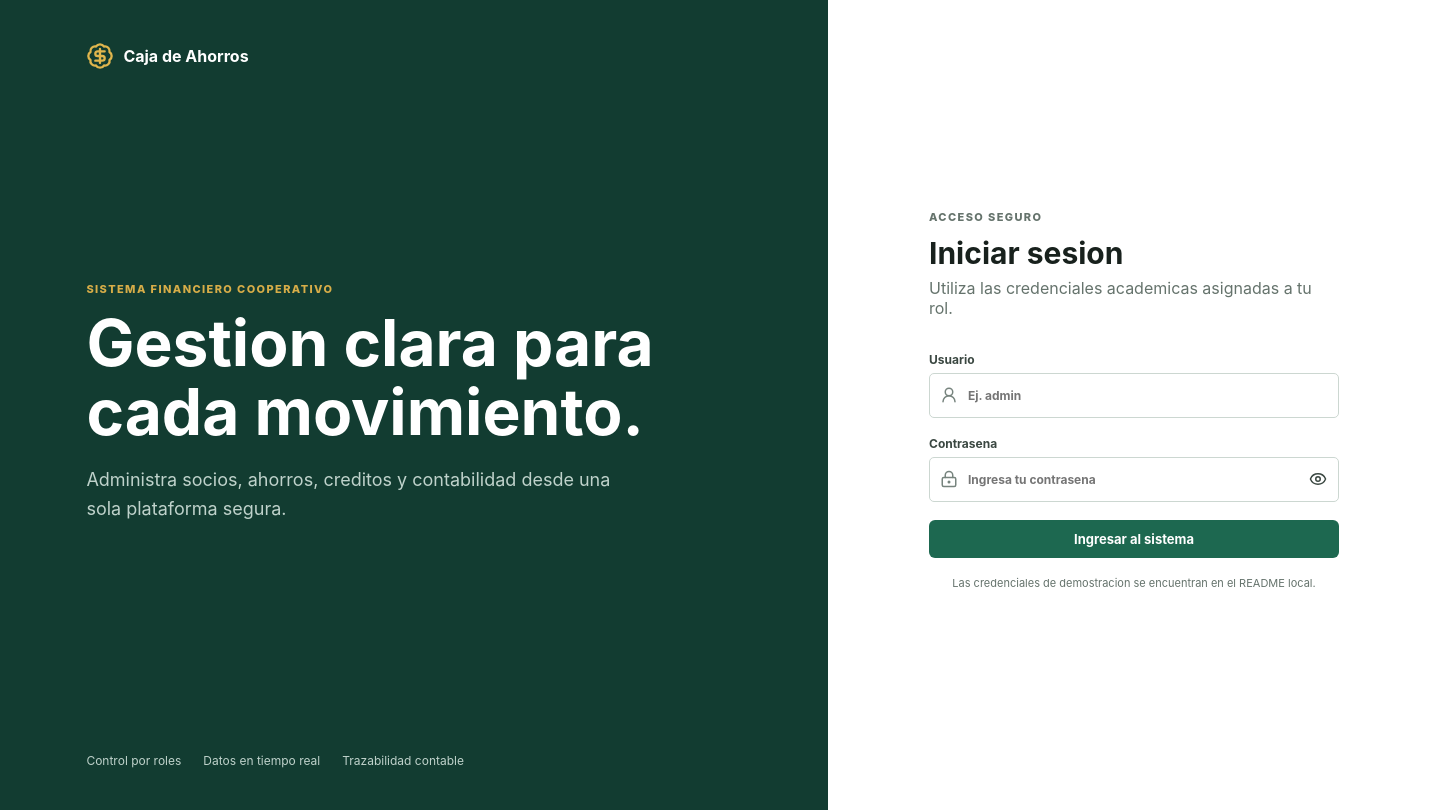
Test: PaginaLogin › muestra validaciones antes de enviar datos incompletos
The image size is (1440, 810).
Click the button "Ingresar al sistema" at (1134, 538), box left=929, top=520, right=1339, bottom=558
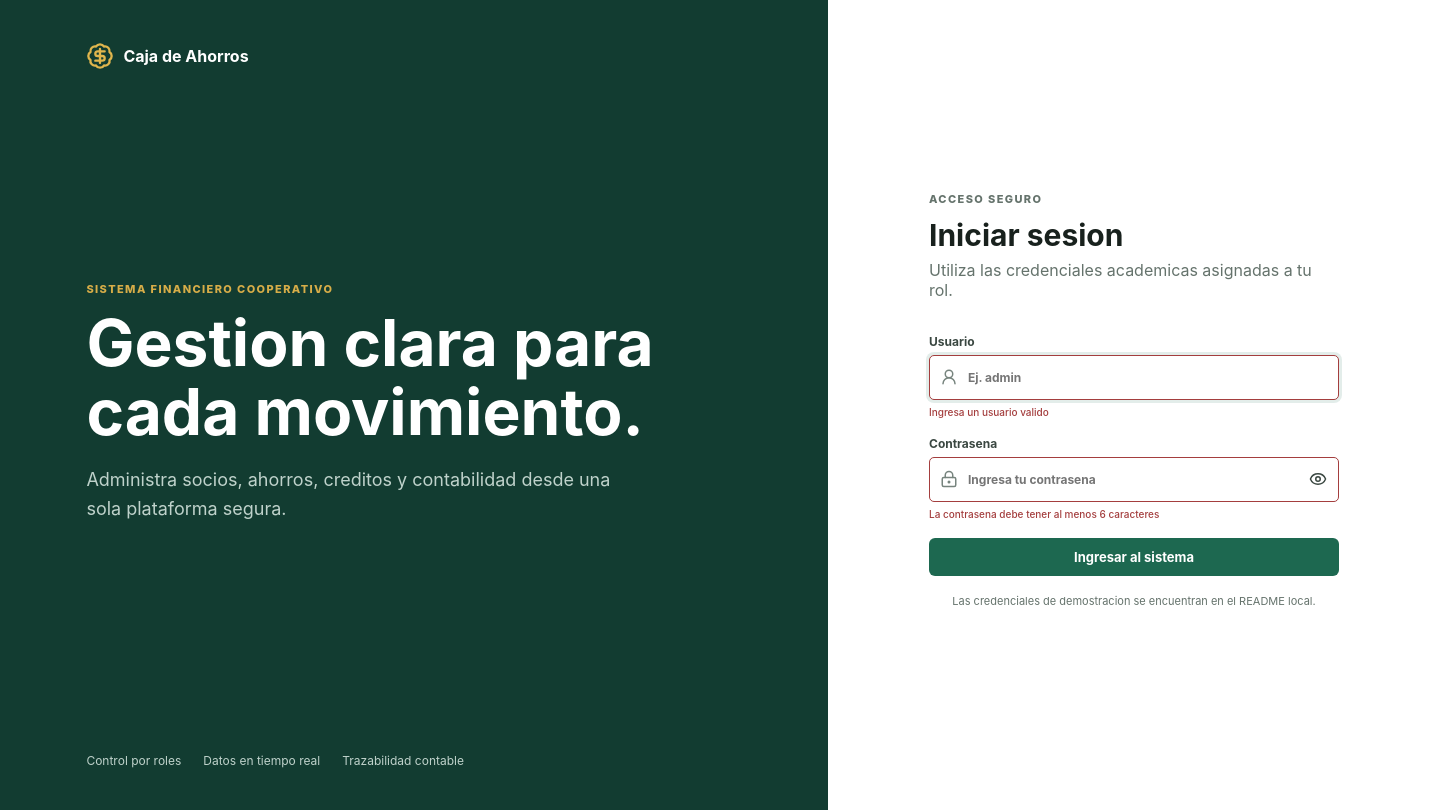
Now the text "Ingresa un usuario valido" is shown, box left=929, top=406, right=1049, bottom=418
Now the text "La contrasena debe tener al menos 6 caracteres" is shown, box left=929, top=508, right=1159, bottom=520
